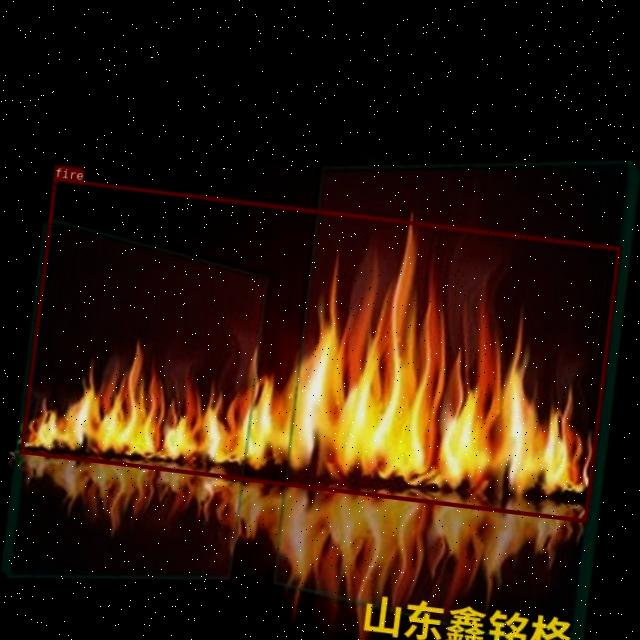fire: (19, 176, 620, 522)
